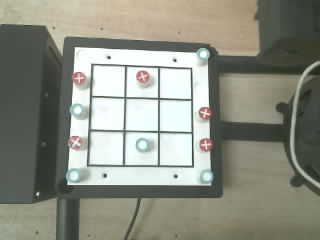blue circle: (70, 104, 84, 117), (136, 138, 150, 151), (66, 169, 80, 182), (200, 169, 213, 183), (197, 48, 210, 60)
board: (67, 47, 213, 185)
cells: (125, 132, 157, 165), (89, 132, 122, 164), (160, 133, 191, 165), (91, 98, 123, 129), (126, 99, 157, 130), (160, 100, 191, 131), (92, 66, 124, 96), (160, 68, 191, 98), (127, 67, 157, 97)
grid: (87, 64, 193, 167)
red cross: (199, 138, 213, 152), (68, 136, 83, 149), (198, 107, 212, 120), (136, 70, 149, 84), (72, 72, 85, 85)
